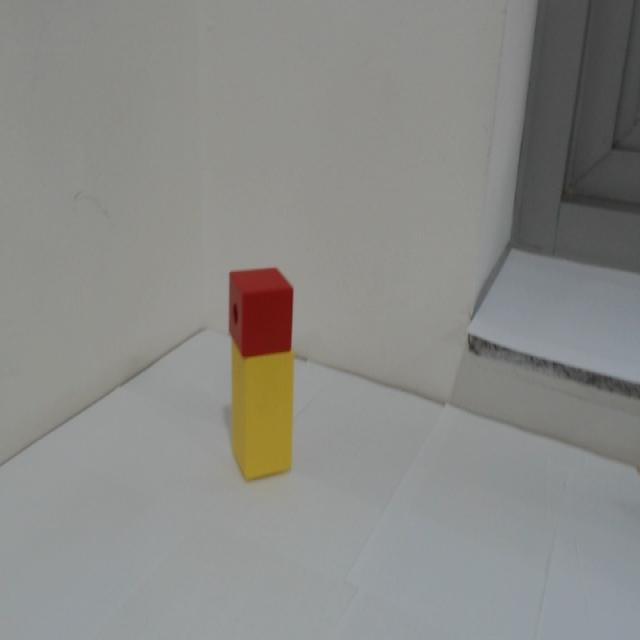cube: (220, 248, 299, 357)
